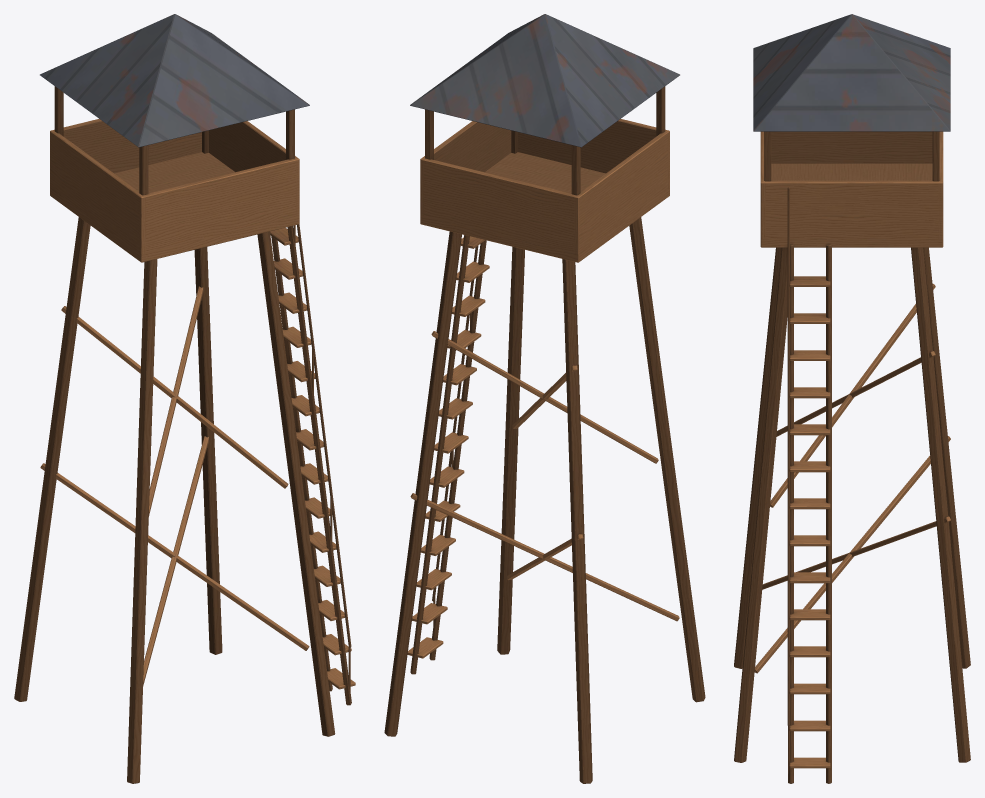
Rendered from utkikstorn_tex.glb.
The picture shows the model from 3 angles, left to right: view 1: azimuth 30°, elevation 25°; view 2: azimuth 150°, elevation 25°; view 3: azimuth 270°, elevation 25°; orthographic projection.
Visible parts, largest first — view 1: utkikstorn; view 2: utkikstorn; view 3: utkikstorn.
Boxes of the visible parts, bbox=[...] form: utkikstorn: bbox=[14, 14, 355, 783]; utkikstorn: bbox=[384, 14, 705, 783]; utkikstorn: bbox=[734, 14, 970, 783].
Size of the model in its own units: 4.14 by 11 by 3.37.
3 materials, 3 textured.
